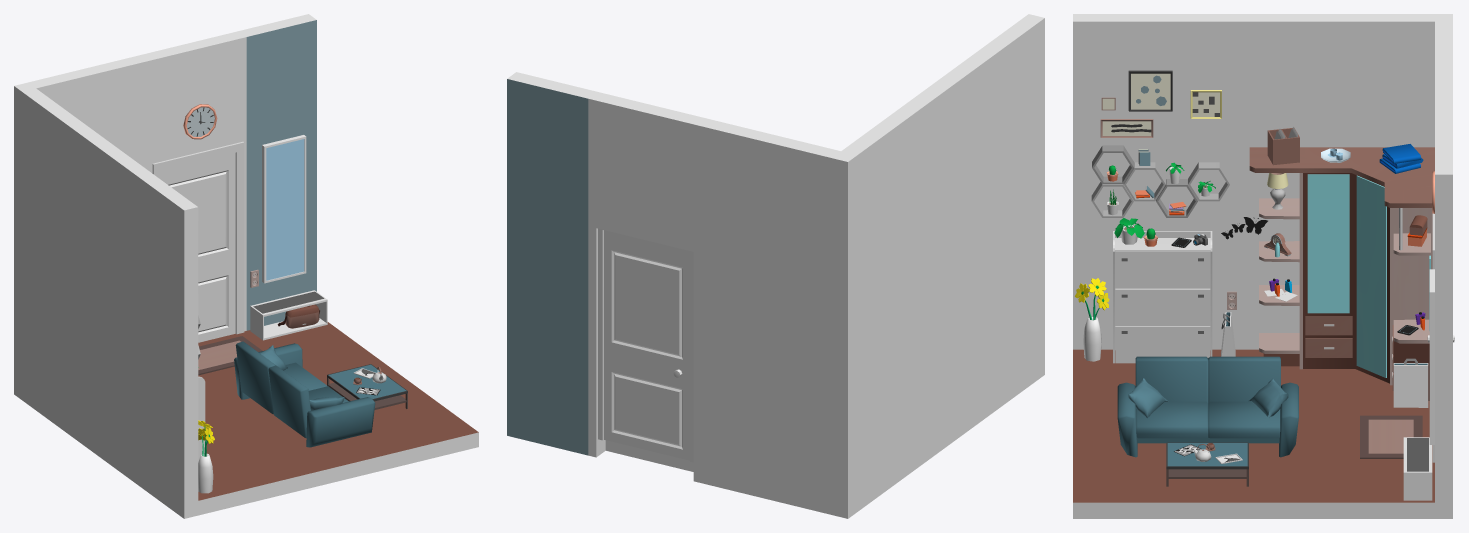
Rendered from room_15.glb.
3 renders of one model, left to right at view 1: azimuth 30°, elevation 25°; view 2: azimuth 150°, elevation 25°; view 3: azimuth 270°, elevation 25°, orthographic. The views are drawn at different scales.
Parts seen in each view (by area): view 1: Walls_006.002, Walls_009.001, Walls_116.001, Walls_006.001, sofa_022.001, Walls_006.004, door_017.001, picture_054.001, door_018.001, tv_wall_016.001, coffee_table_022.001, Walls_006.003 (+4 smaller); view 2: Walls_006.002, Walls_006.004, Walls_116.001, door_017.001, Walls_006.001, Walls_006.003, door_018.001, Walls_009.001; view 3: Walls_006.002, Walls_009.001, closet_020.001, sofa_022.001, shelf_030.001, Walls_116.001, picture_034.001, shelf_006.001, coffee_table_022.001, carpet_001.001, tv_wall_016.001, prop_015.001 (+9 smaller).
Part boxes in pixels (left/top/right/bottom): Walls_006.002: left=14, top=82, right=198, bottom=518; Walls_009.001: left=198, top=322, right=478, bottom=515; Walls_116.001: left=239, top=14, right=316, bottom=330; Walls_006.001: left=148, top=33, right=239, bottom=162; sofa_022.001: left=234, top=341, right=375, bottom=447; Walls_006.004: left=28, top=53, right=155, bottom=173; door_017.001: left=161, top=152, right=235, bottom=342; picture_054.001: left=262, top=135, right=306, bottom=283; door_018.001: left=152, top=141, right=244, bottom=334; tv_wall_016.001: left=250, top=290, right=327, bottom=340; coffee_table_022.001: left=327, top=364, right=407, bottom=409; Walls_006.003: left=232, top=31, right=246, bottom=331; Walls_006.002: left=831, top=14, right=1044, bottom=518; Walls_006.004: left=693, top=117, right=840, bottom=514; Walls_116.001: left=507, top=72, right=597, bottom=455; door_017.001: left=604, top=230, right=689, bottom=460; Walls_006.001: left=596, top=94, right=702, bottom=251; Walls_006.003: left=588, top=92, right=605, bottom=457; door_018.001: left=598, top=228, right=693, bottom=462; Walls_009.001: left=605, top=440, right=693, bottom=471; Walls_006.002: left=1073, top=14, right=1452, bottom=349; Walls_009.001: left=1073, top=349, right=1434, bottom=518; closet_020.001: left=1249, top=147, right=1434, bottom=400; sofa_022.001: left=1117, top=356, right=1298, bottom=457; shelf_030.001: left=1113, top=231, right=1212, bottom=363; Walls_116.001: left=1435, top=136, right=1452, bottom=518; picture_034.001: left=1100, top=70, right=1221, bottom=137; shelf_006.001: left=1091, top=145, right=1230, bottom=217; coffee_table_022.001: left=1166, top=442, right=1248, bottom=486; carpet_001.001: left=1360, top=415, right=1422, bottom=458; tv_wall_016.001: left=1403, top=437, right=1432, bottom=500; prop_015.001: left=1393, top=358, right=1428, bottom=407.
Bounding box in the file's own units: 4.2 × 4.2 × 4.22.
1 material, 1 textured.
